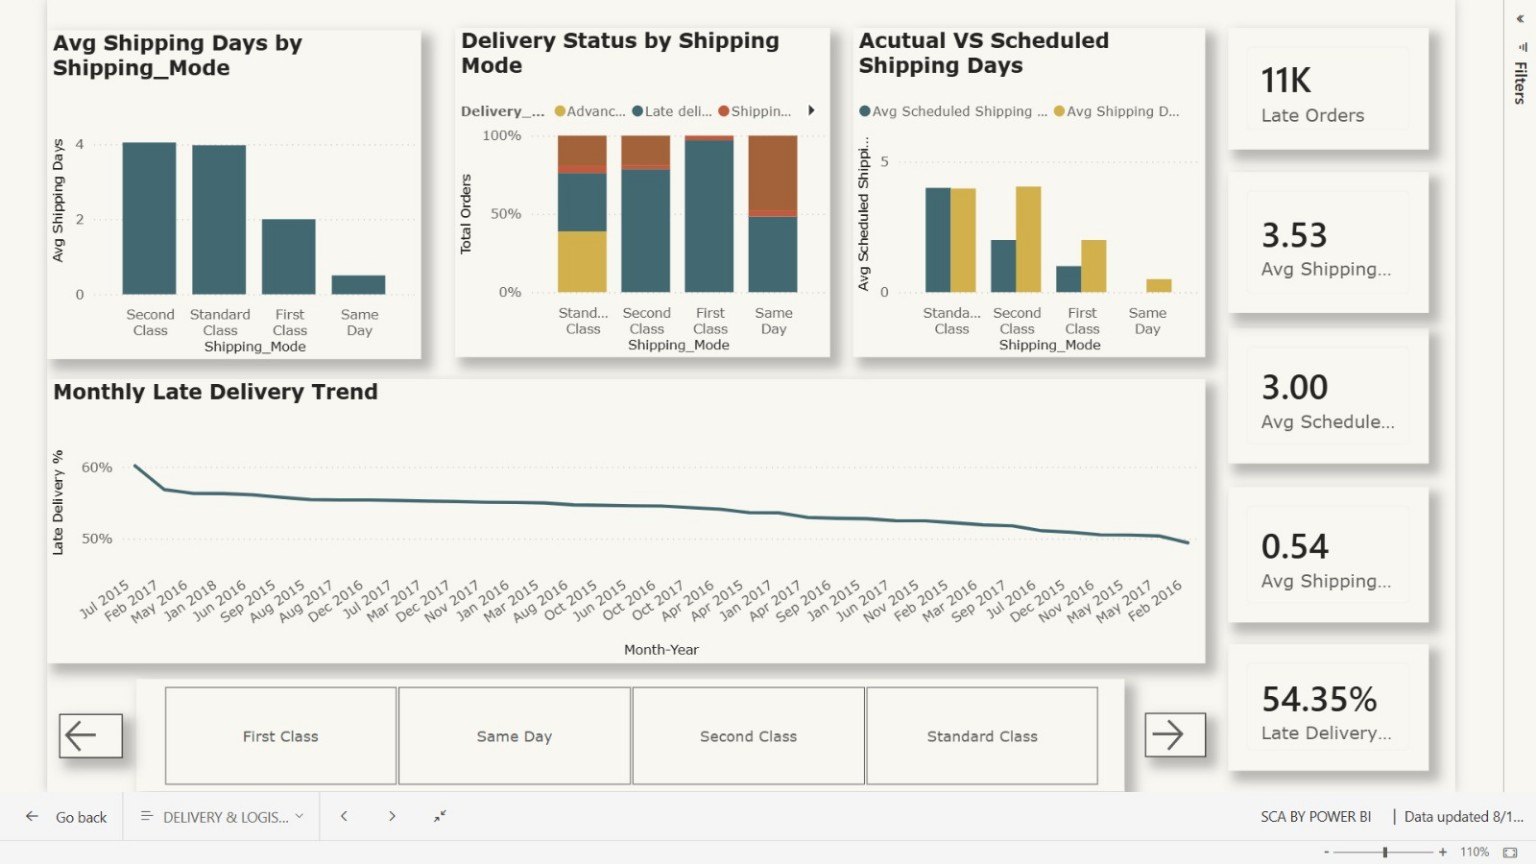

The dashboard page shown, as its layout file describes it:
{"tool":"powerbi","page":{"name":"DELIVERY & LOGISTICS","canvas":[1280,720],"ordinal":1},"visuals":[{"type":"cardVisual","fields":{"Data":["Fact_Order.Avg Scheduled Shipping Days"]},"box":[1073.6,298.4,182.2,123.5],"z":0},{"type":"cardVisual","fields":{"Data":["Fact_Order.Avg Shipping Days"]},"box":[1073.6,156.5,182.2,128.4],"z":1},{"type":"cardVisual","fields":{"Data":["Fact_Order.Avg Shipping Delay"]},"box":[1073.6,442.7,182.2,123.5],"z":2},{"type":"cardVisual","fields":{"Data":["Fact_Order.Late Orders"]},"box":[1073.6,25.7,182.2,110.1],"z":4},{"type":"cardVisual","fields":{"Data":["Fact_Order.Late Delivery %"]},"box":[1073.6,585.7,182.2,114.9],"z":5},{"type":"clusteredColumnChart","fields":{"Category":["Fact_Order.Shipping_Mode"],"Y":["Fact_Order.Avg Shipping Days"]},"box":[0,26.9,339.9,299.6],"z":6},{"type":"hundredPercentStackedColumnChart","title":"Delivery Status by Shipping Mode","fields":{"Category":["Fact_Order.Shipping_Mode"],"Series":["Fact_Order.Delivery_Status"],"Y":["Fact_Order.Total Orders"]},"box":[370.5,25.7,341.2,299.6],"z":7},{"type":"lineChart","title":" Monthly Late Delivery Trend","fields":{"Category":["Dim_Date.Month-Year"],"Y":["Fact_Order.Late Delivery %"]},"box":[0,344.8,1052.9,258],"z":8},{"type":"clusteredColumnChart","title":"Acutual VS Scheduled Shipping Days","fields":{"Category":["Fact_Order.Shipping_Mode"],"Y":["Fact_Order.Avg Scheduled Shipping Days","Fact_Order.Avg Shipping Days"]},"box":[732.5,25.7,320.4,299.6],"z":9},{"type":"slicer","fields":{"Values":["Fact_Order.Shipping_Mode"]},"box":[80.7,617.5,898.8,102.7],"z":10},{"type":"actionButton","box":[11,649.3,57.5,40.4],"z":11},{"type":"actionButton","box":[997.8,648.1,55,40.4],"z":12}]}

Visuals, with their boxes on the page's 1280x720 design canvas (x1, y1, x2, y2). These are canvas units, not pixel positions in the 1536x864 screenshot, which may show the page scaled, cropped or inside an application window:
cardVisual - Fact_Order.Avg Scheduled Shipping Days: [x1=1074, y1=298, x2=1256, y2=422]
cardVisual - Fact_Order.Avg Shipping Days: [x1=1074, y1=156, x2=1256, y2=285]
cardVisual - Fact_Order.Avg Shipping Delay: [x1=1074, y1=443, x2=1256, y2=566]
cardVisual - Fact_Order.Late Orders: [x1=1074, y1=26, x2=1256, y2=136]
cardVisual - Fact_Order.Late Delivery %: [x1=1074, y1=586, x2=1256, y2=701]
clusteredColumnChart - Fact_Order.Shipping_Mode x Fact_Order.Avg Shipping Days: [x1=0, y1=27, x2=340, y2=326]
"Delivery Status by Shipping Mode" hundredPercentStackedColumnChart: [x1=370, y1=26, x2=712, y2=325]
" Monthly Late Delivery Trend" lineChart: [x1=0, y1=345, x2=1053, y2=603]
"Acutual VS Scheduled Shipping Days" clusteredColumnChart: [x1=732, y1=26, x2=1053, y2=325]
slicer - Fact_Order.Shipping_Mode: [x1=81, y1=618, x2=980, y2=720]
actionButton: [x1=11, y1=649, x2=68, y2=690]
actionButton: [x1=998, y1=648, x2=1053, y2=688]
